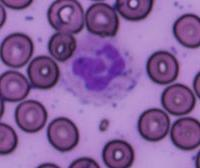N: (55, 34, 144, 105)
